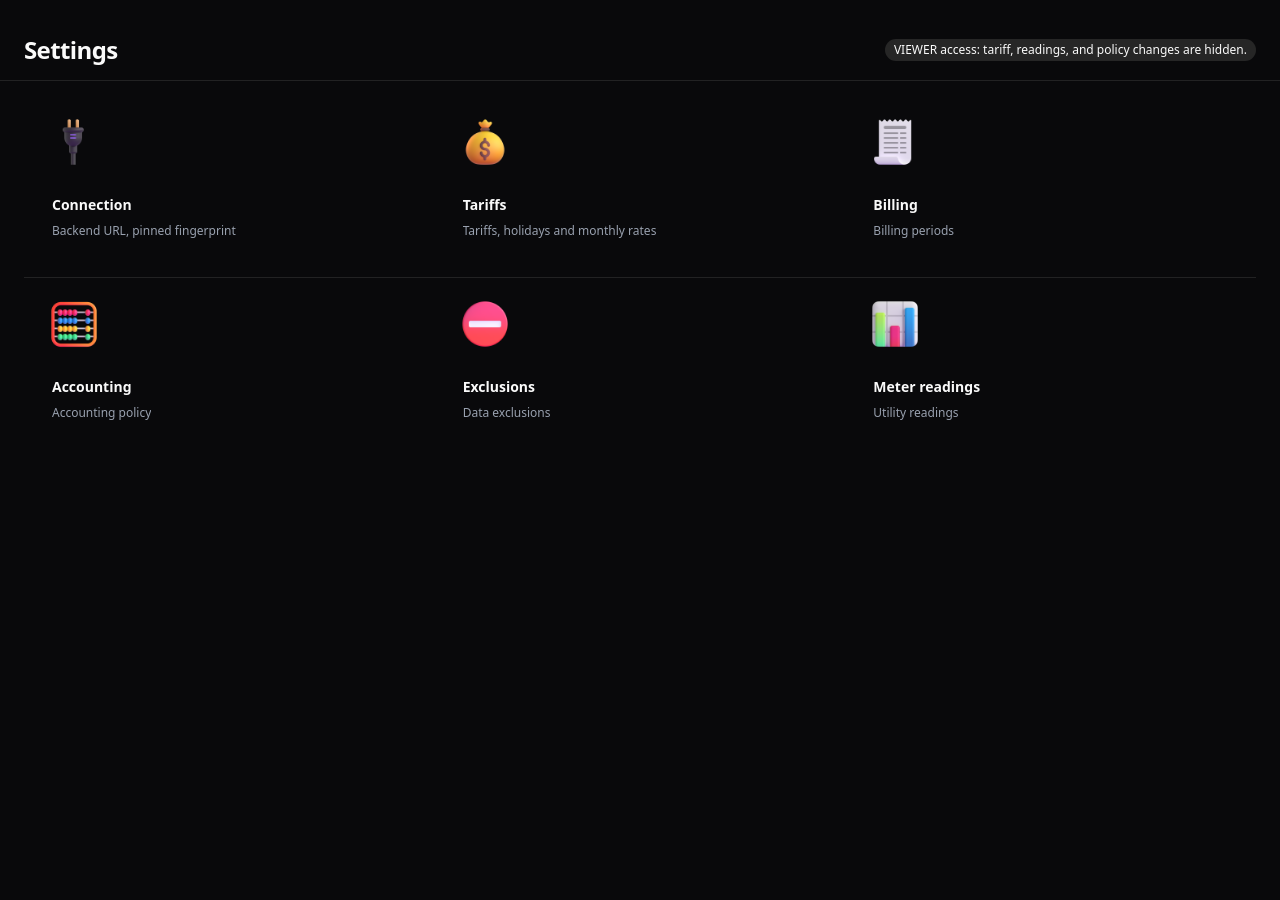
it: Settings meter readings › shows an omitted export reading as a reasoned dash rather than zero kWh
This screenshot has width=1280, height=900.
Click the button "Meter readings Utility readings" at {"x": 895, "y": 324}, box x1=845 y1=278 x2=1256 y2=459
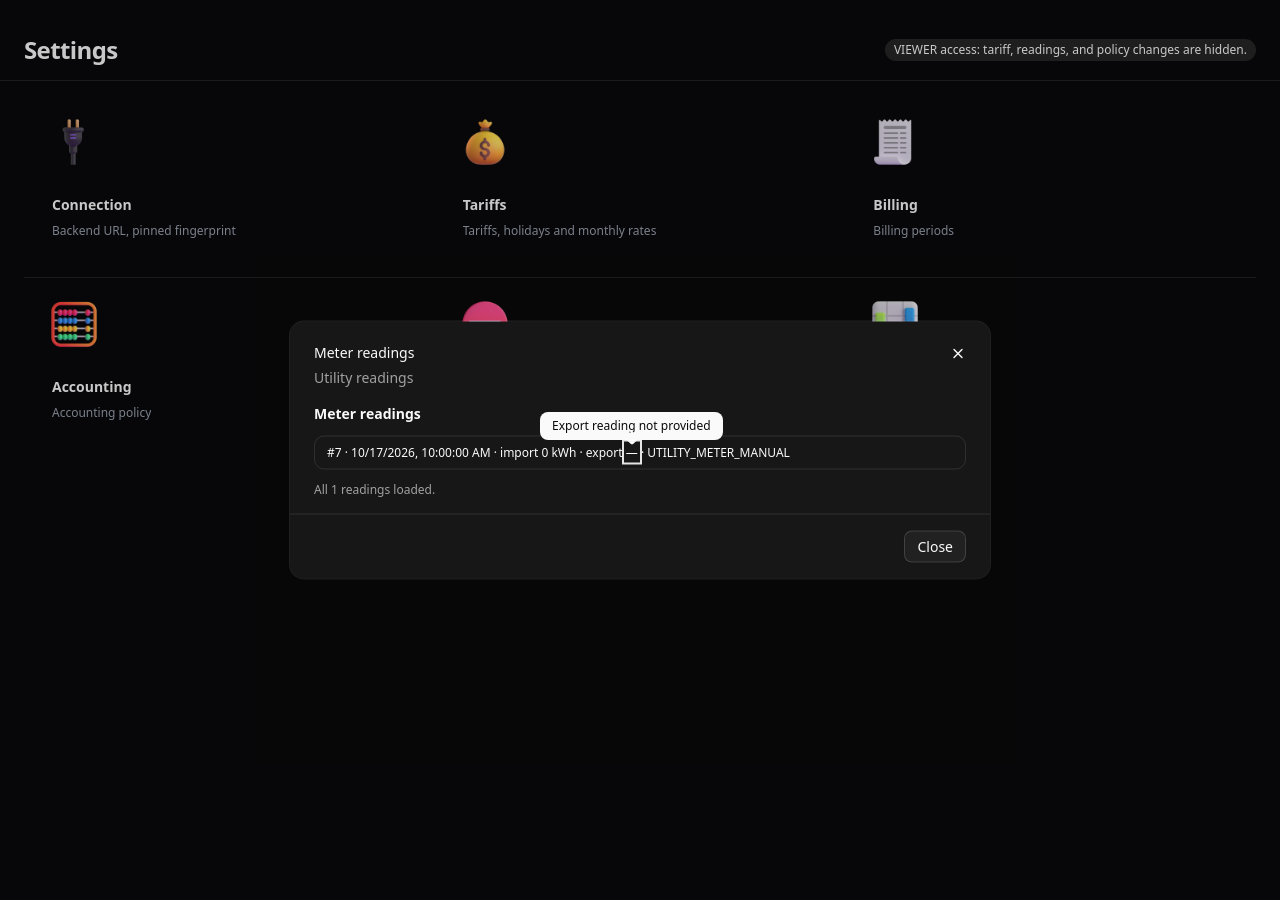
Expected: the list item shows "import 0 kWh", x1=327 y1=444 x2=790 y2=460
Expected: the text "—" is shown, x1=626 y1=444 x2=638 y2=460
